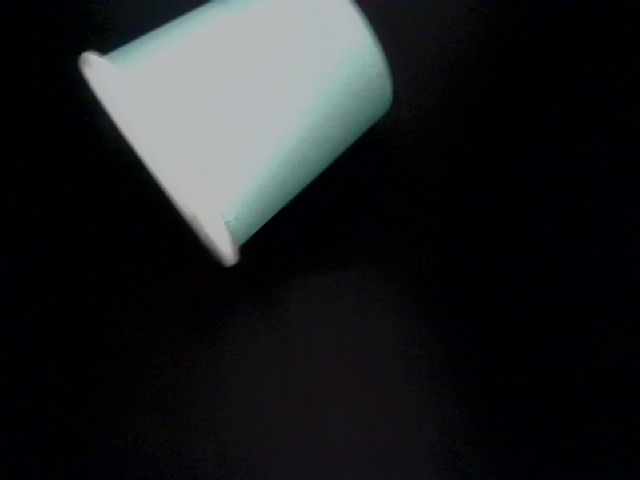CYLJ: (248, 174, 362, 276)
